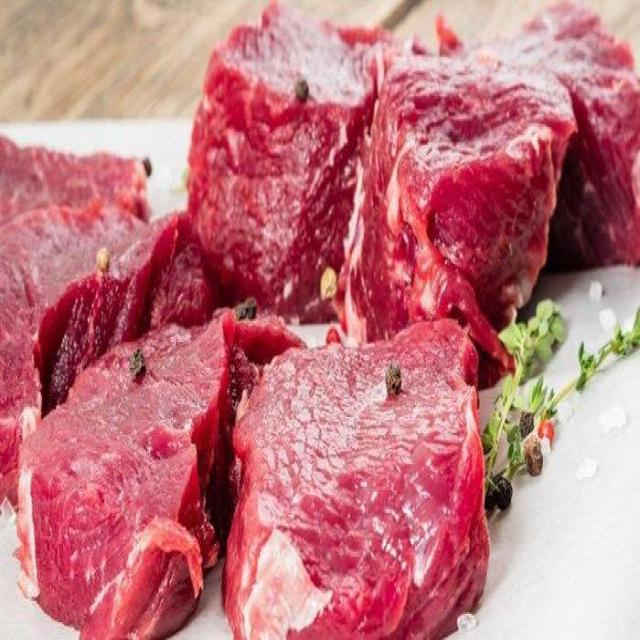beef: (224, 345, 496, 640), (22, 296, 245, 640), (339, 32, 560, 357), (176, 0, 349, 309)
